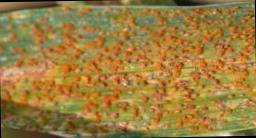Wheat: (2, 16, 254, 126)
